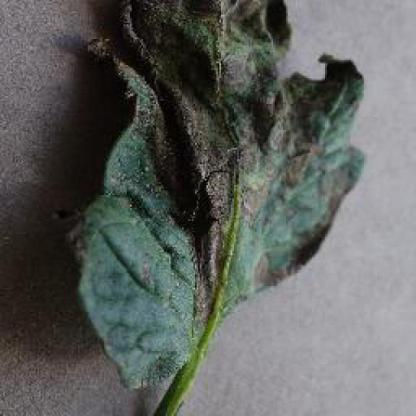Tomato_Blight: (61, 0, 369, 386)
